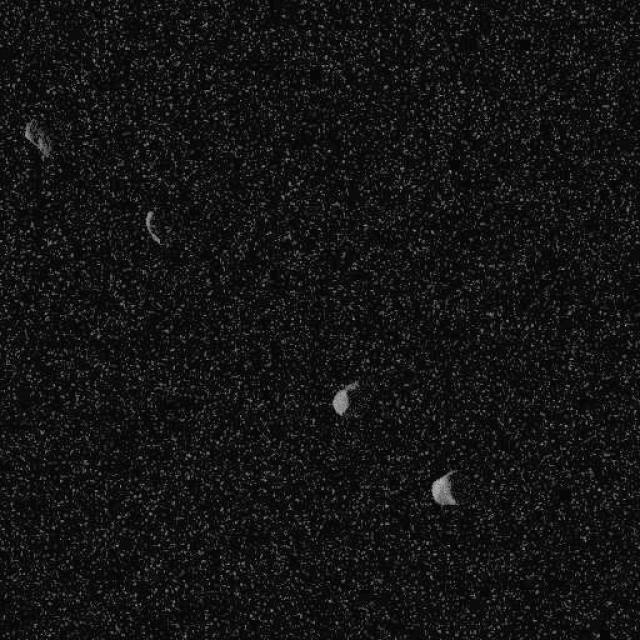D2: (22, 118, 52, 160), (430, 468, 459, 507), (330, 379, 360, 416), (144, 209, 162, 245)
